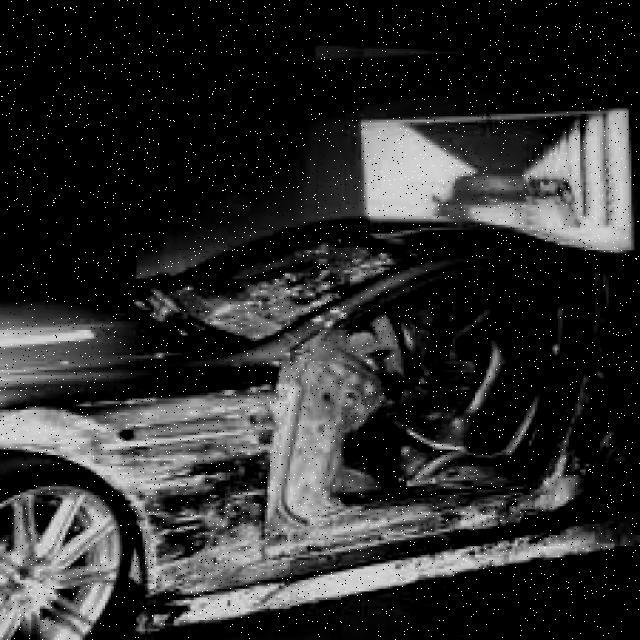car damage: (5, 250, 640, 627)
